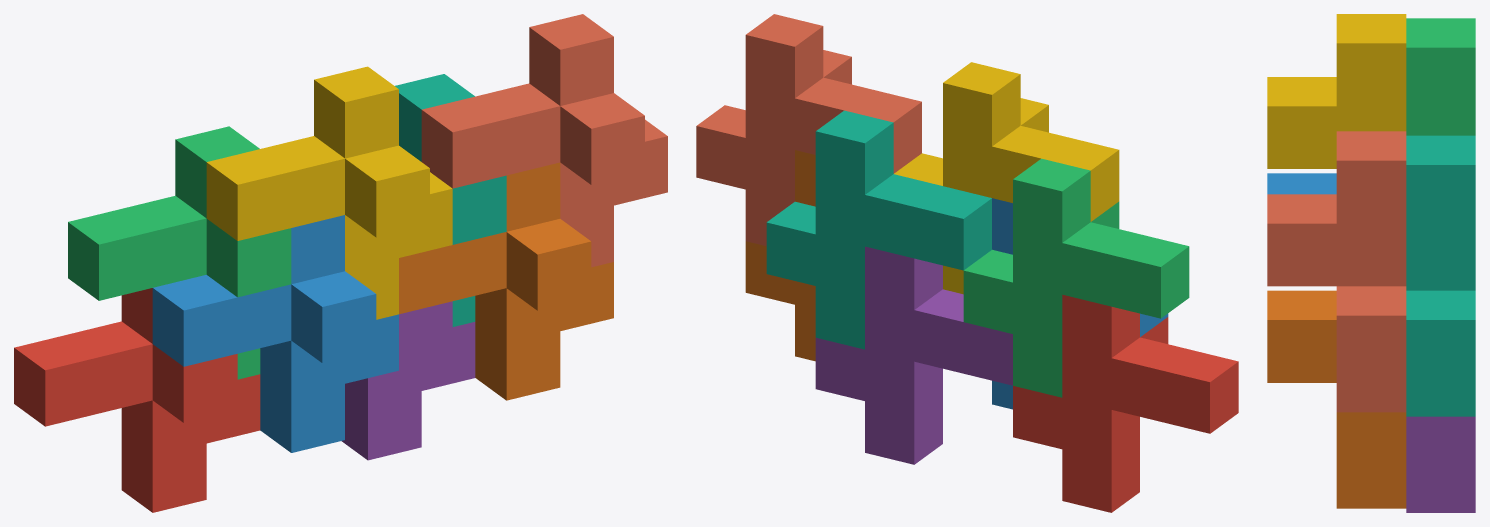
Rendered from tiling.obj.
3 views of the same model, side by side, from view 1: azimuth 30°, elevation 25°; view 2: azimuth 150°, elevation 25°; view 3: azimuth 270°, elevation 25° (orthographic). The views are drawn at different scales.
Visible parts, largest first — view 1: copy_1_domain_4, copy_1_domain_8, copy_1_domain_2, copy_1_domain_1, copy_1_domain_6, copy_1_domain_3, copy_1_domain_5, copy_1_domain_7; view 2: copy_1_domain_3, copy_1_domain_1, copy_1_domain_7, copy_1_domain_5, copy_1_domain_8, copy_1_domain_4, copy_1_domain_6, copy_1_domain_2; view 3: copy_1_domain_8, copy_1_domain_7, copy_1_domain_4, copy_1_domain_6, copy_1_domain_3, copy_1_domain_5, copy_1_domain_2.
Part boxes in pixels (box(x1,y1,x2,y2)): copy_1_domain_4: box(206, 66, 452, 319); copy_1_domain_8: box(421, 14, 667, 267); copy_1_domain_2: box(152, 215, 398, 452); copy_1_domain_1: box(14, 288, 260, 512); copy_1_domain_6: box(399, 162, 613, 400); copy_1_domain_3: box(68, 126, 291, 379); copy_1_domain_5: box(341, 301, 475, 460); copy_1_domain_7: box(395, 74, 506, 326); copy_1_domain_3: box(963, 158, 1189, 397); copy_1_domain_1: box(1013, 294, 1238, 512); copy_1_domain_7: box(766, 110, 991, 349); copy_1_domain_5: box(815, 246, 1012, 464); copy_1_domain_8: box(696, 14, 921, 246); copy_1_domain_4: box(894, 62, 1119, 294); copy_1_domain_6: box(745, 150, 815, 361); copy_1_domain_2: box(992, 198, 1168, 409); copy_1_domain_8: box(1267, 131, 1406, 412); copy_1_domain_7: box(1406, 135, 1475, 416); copy_1_domain_4: box(1267, 14, 1406, 168); copy_1_domain_6: box(1267, 290, 1406, 508); copy_1_domain_3: box(1406, 18, 1475, 135); copy_1_domain_5: box(1406, 416, 1475, 512); copy_1_domain_2: box(1267, 173, 1336, 194).
Bounding box in the file's own units: 11 × 7 × 3.
